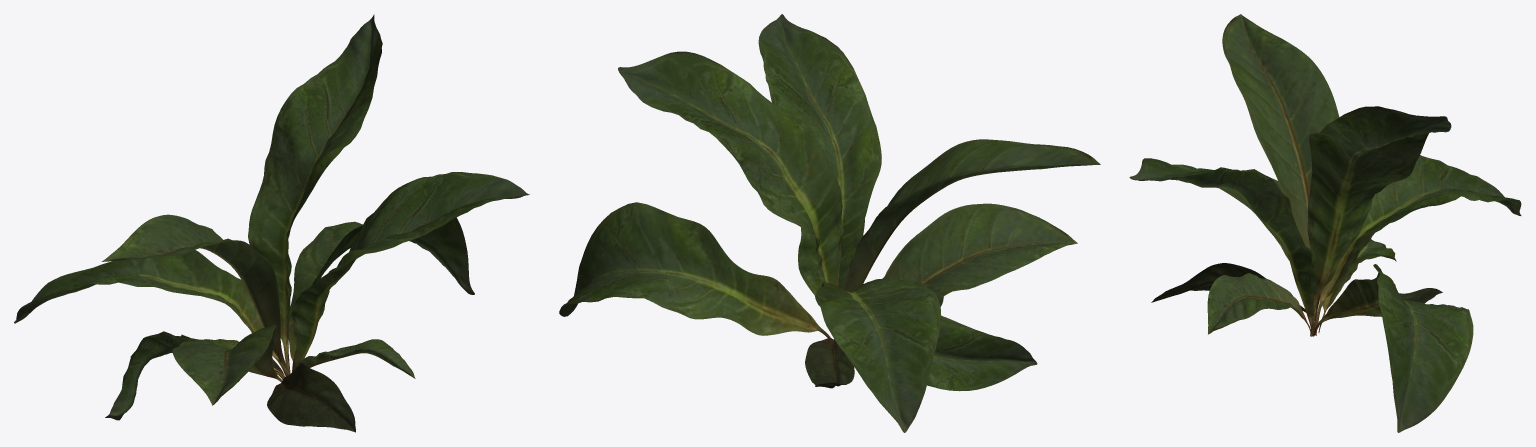
The model's file is anthurium_botany_01_d.gltf.
The picture shows the model from 3 angles, left to right: view 1: azimuth 30°, elevation 25°; view 2: azimuth 150°, elevation 25°; view 3: azimuth 270°, elevation 25°; orthographic projection.
Parts seen in each view (by area): view 1: anthurium_botany_01_b; view 2: anthurium_botany_01_b; view 3: anthurium_botany_01_b.
Boxes of the visible parts, box(x1,y1,x2,y2) form: anthurium_botany_01_b: box(14, 14, 529, 432); anthurium_botany_01_b: box(559, 14, 1100, 432); anthurium_botany_01_b: box(1129, 14, 1521, 432).
Bounding box in the file's own units: 0.7567 × 0.4717 × 0.5716.
Materials: 1 (1 with a texture image).
